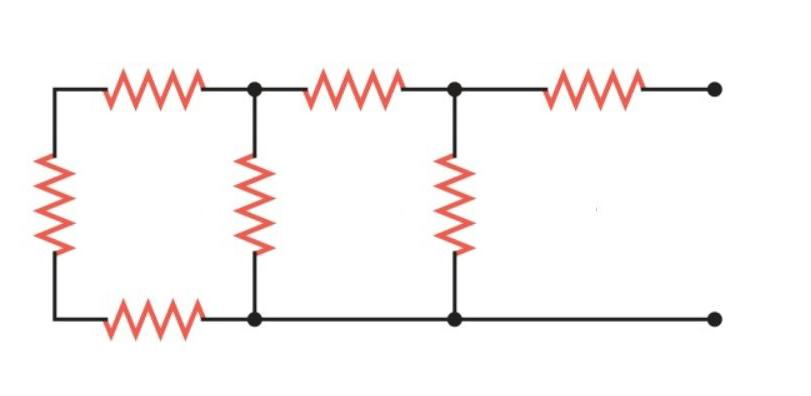resistor: (279, 46, 434, 137), (220, 128, 300, 278), (416, 126, 490, 281), (84, 281, 226, 360), (89, 54, 221, 129), (22, 133, 86, 280)
